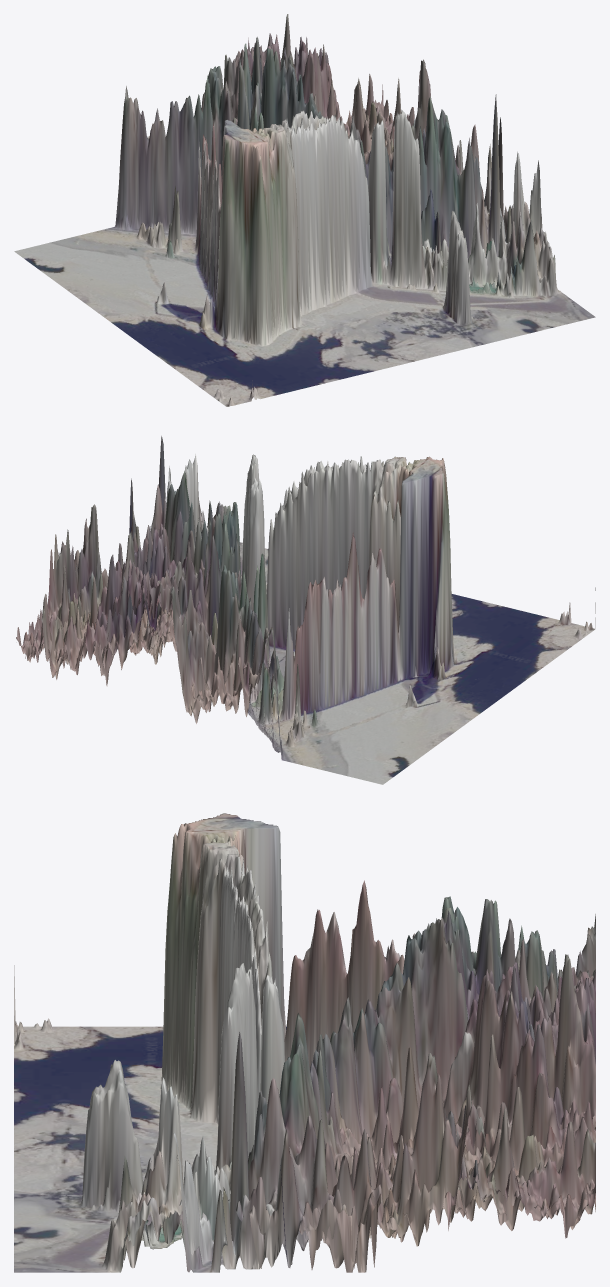
The model's file is dsm_b94a50464b_mesh.glb.
3 renders of one model, top to bottom at view 1: azimuth 30°, elevation 25°; view 2: azimuth 150°, elevation 25°; view 3: azimuth 270°, elevation 25°, orthographic. The views are drawn at different scales.
Visible parts, largest first — view 1: geometry_0; view 2: geometry_0; view 3: geometry_0.
Boxes of the visible parts, x1=… form: geometry_0: x1=14, y1=14, x2=595, y2=406; geometry_0: x1=16, y1=436, x2=595, y2=784; geometry_0: x1=14, y1=813, x2=595, y2=1272.
Size of the model in its own units: 2 by 1 by 2.
